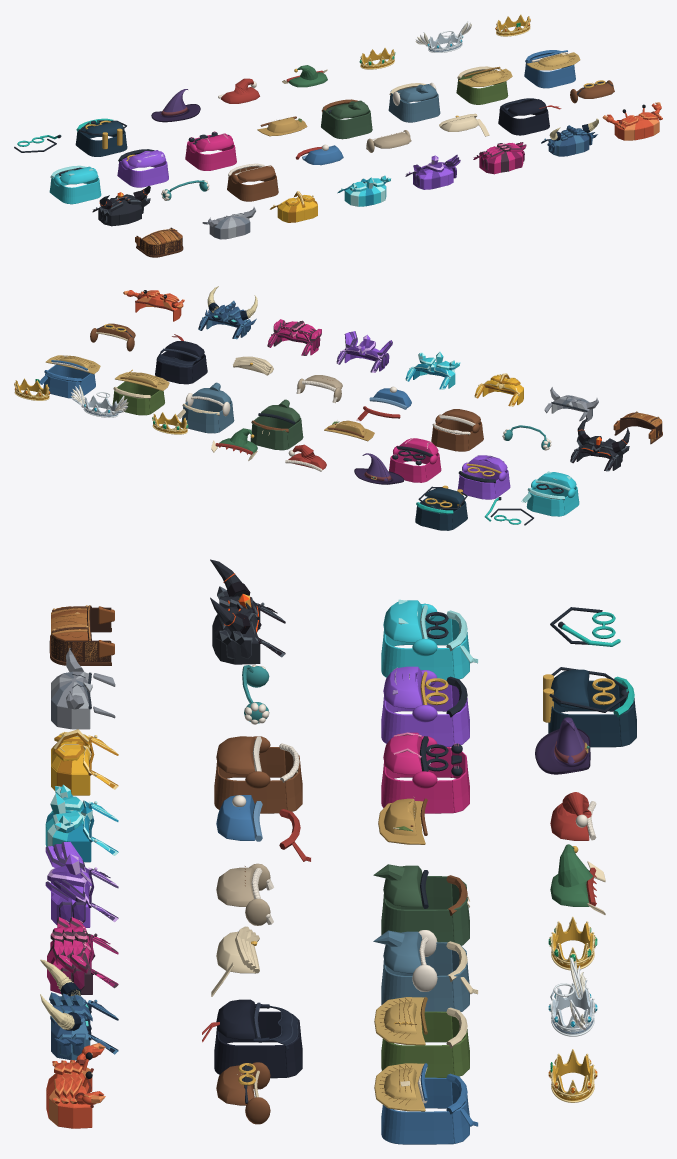
The model's file is armaduras-32.fbx.
3 views of the same model, one above another, from view 1: azimuth 30°, elevation 25°; view 2: azimuth 150°, elevation 25°; view 3: azimuth 270°, elevation 25° (orthographic). The views are drawn at different scales.
Parts seen in each view (by area): view 1: winter_peasant_armor, peasant_armor, winter_hood_armor, hood_armor, diving_suit_armor, diamond_protection_armor, amethyst_protection_armor, coat_armor, ninja_armor, reidite_protection_armor, lava_helmet_armor, crab_helmet_armor (+18 smaller); view 2: winter_hood_armor, hood_armor, diamond_protection_armor, diving_suit_armor, amethyst_protection_armor, ninja_armor, winter_peasant_armor, coat_armor, peasant_armor, reidite_protection_armor, lava_helmet_armor, dragon_helmet_armor (+18 smaller); view 3: winter_peasant_armor, winter_hood_armor, peasant_armor, reidite_protection_armor, diving_suit_armor, diamond_protection_armor, amethyst_protection_armor, hood_armor, ninja_armor, coat_armor, lava_helmet_armor, wood_helmet_armor (+20 smaller).
Boxes of the visible parts, x1,y1,x2,y2 form: winter_peasant_armor: (524, 50, 580, 88); peasant_armor: (456, 66, 512, 104); winter_hood_armor: (388, 82, 440, 122); hood_armor: (321, 99, 372, 139); diving_suit_armor: (75, 118, 127, 156); diamond_protection_armor: (49, 165, 101, 204); amethyst_protection_armor: (117, 149, 168, 187); coat_armor: (227, 163, 278, 201); ninja_armor: (498, 98, 561, 135); reidite_protection_armor: (185, 131, 236, 170); lava_helmet_armor: (92, 186, 150, 226); crab_helmet_armor: (602, 102, 662, 140); winter_hood_armor: (177, 382, 234, 433); hood_armor: (250, 399, 303, 450); diamond_protection_armor: (521, 471, 579, 516); diving_suit_armor: (415, 485, 467, 530); amethyst_protection_armor: (457, 455, 510, 499); ninja_armor: (155, 334, 207, 384); winter_peasant_armor: (39, 355, 100, 398); coat_armor: (431, 409, 483, 451); peasant_armor: (112, 369, 169, 415); reidite_protection_armor: (389, 438, 441, 482); lava_helmet_armor: (570, 418, 629, 471); dragon_helmet_armor: (198, 286, 257, 339); winter_peasant_armor: (374, 1063, 478, 1144); winter_hood_armor: (373, 930, 478, 1011); peasant_armor: (374, 997, 469, 1077); reidite_protection_armor: (381, 732, 469, 813); diving_suit_armor: (543, 667, 636, 747); diamond_protection_armor: (381, 599, 478, 680); amethyst_protection_armor: (381, 666, 469, 746); hood_armor: (373, 864, 469, 945); ninja_armor: (202, 999, 302, 1078); coat_armor: (214, 736, 302, 813); lava_helmet_armor: (210, 559, 285, 664); wood_helmet_armor: (49, 605, 114, 665).
Bounding box in the file's own units: 58.43 × 4.59 × 28.58.
Materials: 2 (2 with a texture image).
